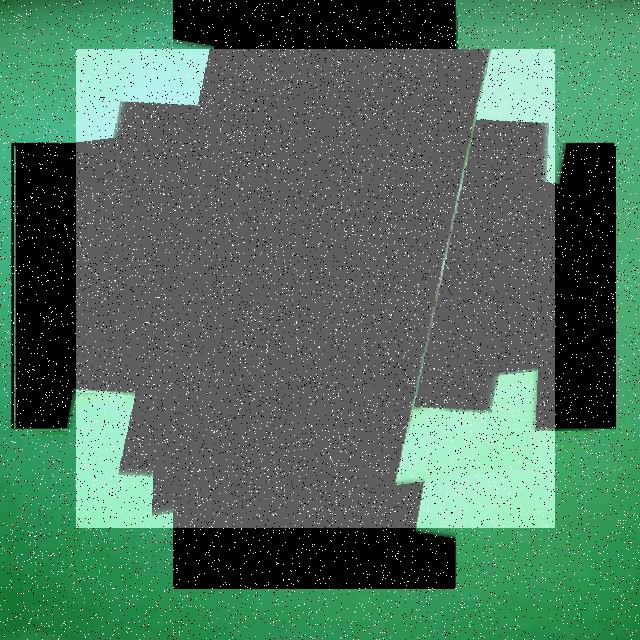lima puluh ribu rupiah: (76, 49, 555, 528)
